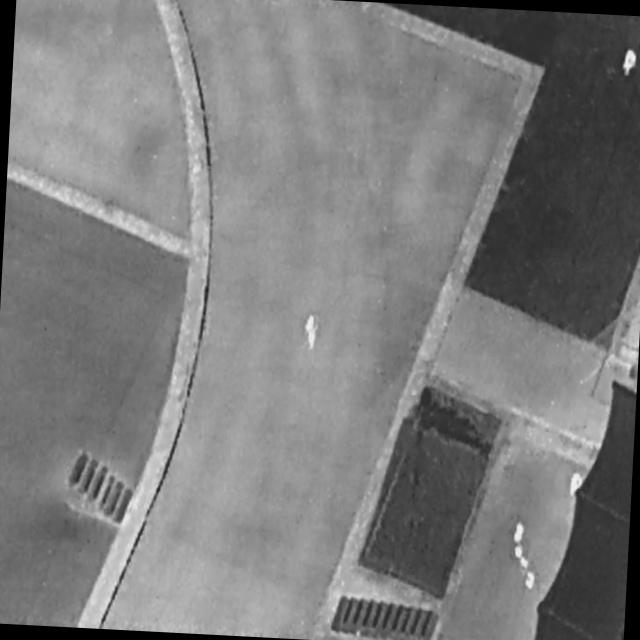person: (620, 48, 639, 81), (567, 469, 587, 500), (305, 315, 321, 352)
